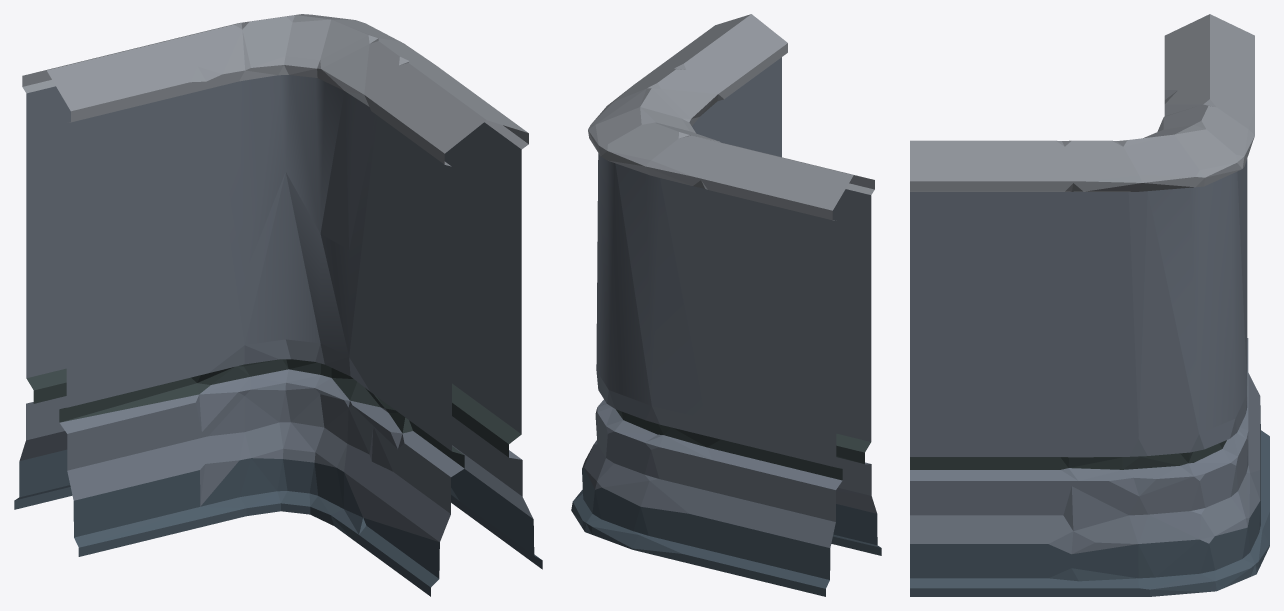
The model's file is SoftCorner1.fbx.
3 views of the same model, side by side, from view 1: azimuth 30°, elevation 25°; view 2: azimuth 150°, elevation 25°; view 3: azimuth 270°, elevation 25° (orthographic). The views are drawn at different scales.
Parts seen in each view (by area): view 1: SoftCorner1; view 2: SoftCorner1; view 3: SoftCorner1.
Part boxes in pixels (x1=…): SoftCorner1: x1=14, y1=14, x2=542, y2=596; SoftCorner1: x1=571, y1=14, x2=881, y2=596; SoftCorner1: x1=910, y1=14, x2=1269, y2=596.
Bounding box in the file's own units: 360 × 476 × 360.
